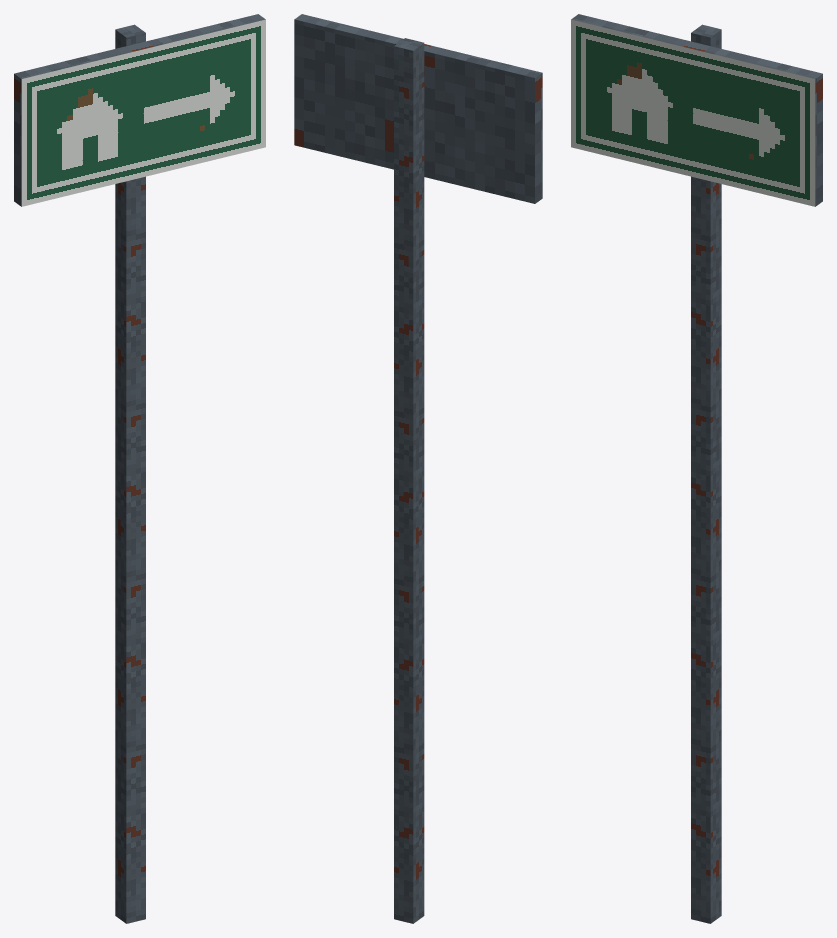
File: sign_home.gltf
3 views of the same model, side by side, from view 1: azimuth 30°, elevation 25°; view 2: azimuth 150°, elevation 25°; view 3: azimuth 330°, elevation 25° (orthographic).
Parts seen in each view (by area): view 1: sign_home; view 2: sign_home; view 3: sign_home.
Boxes of the visible parts, bbox=[...] form: sign_home: bbox=[14, 14, 265, 923]; sign_home: bbox=[294, 14, 542, 923]; sign_home: bbox=[571, 14, 822, 923].
Bounding box in the file's own units: 0.75 × 2.6 × 0.1.
2 materials, 2 textured.
